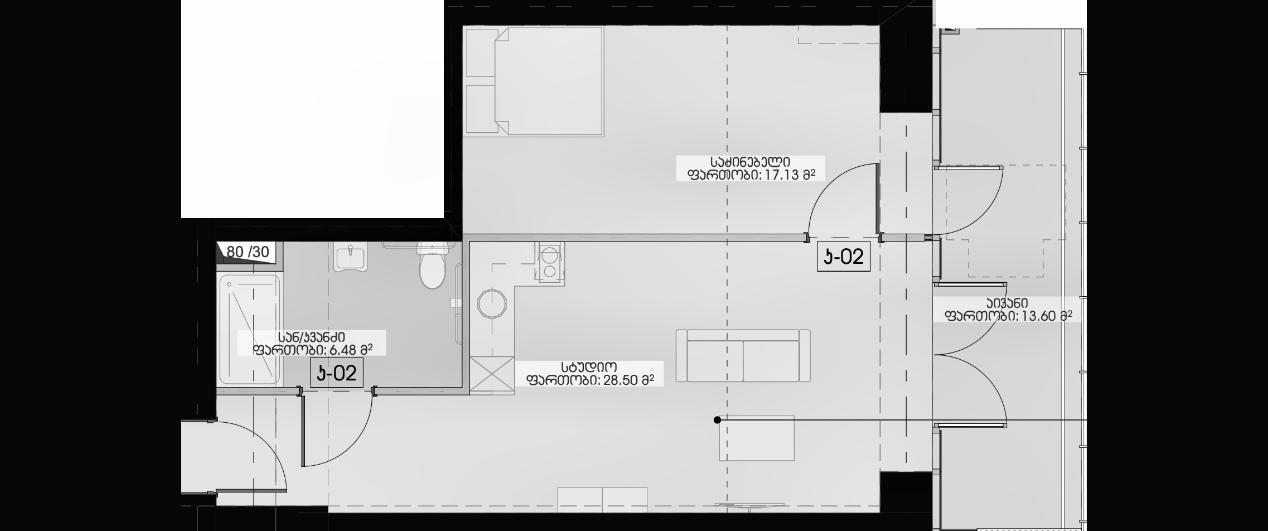door: (798, 159, 886, 253), (295, 384, 380, 472), (202, 418, 291, 499), (928, 354, 1013, 434), (926, 279, 1013, 355), (926, 157, 1008, 235)
